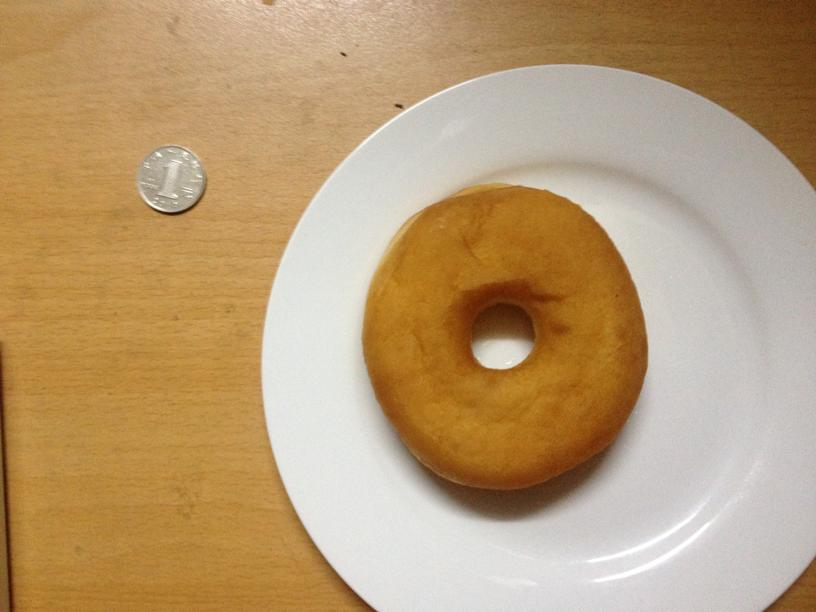coin: (138, 144, 206, 214)
doughnut: (357, 185, 648, 491)
